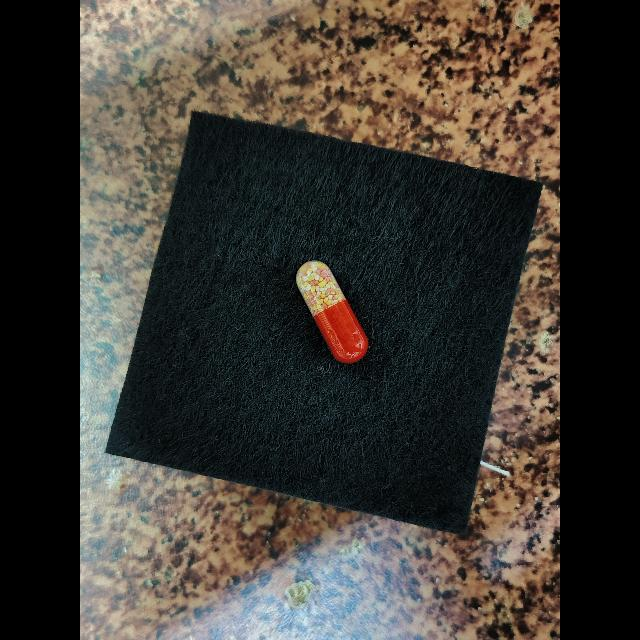Intact Capsule: (296, 260, 369, 363)
